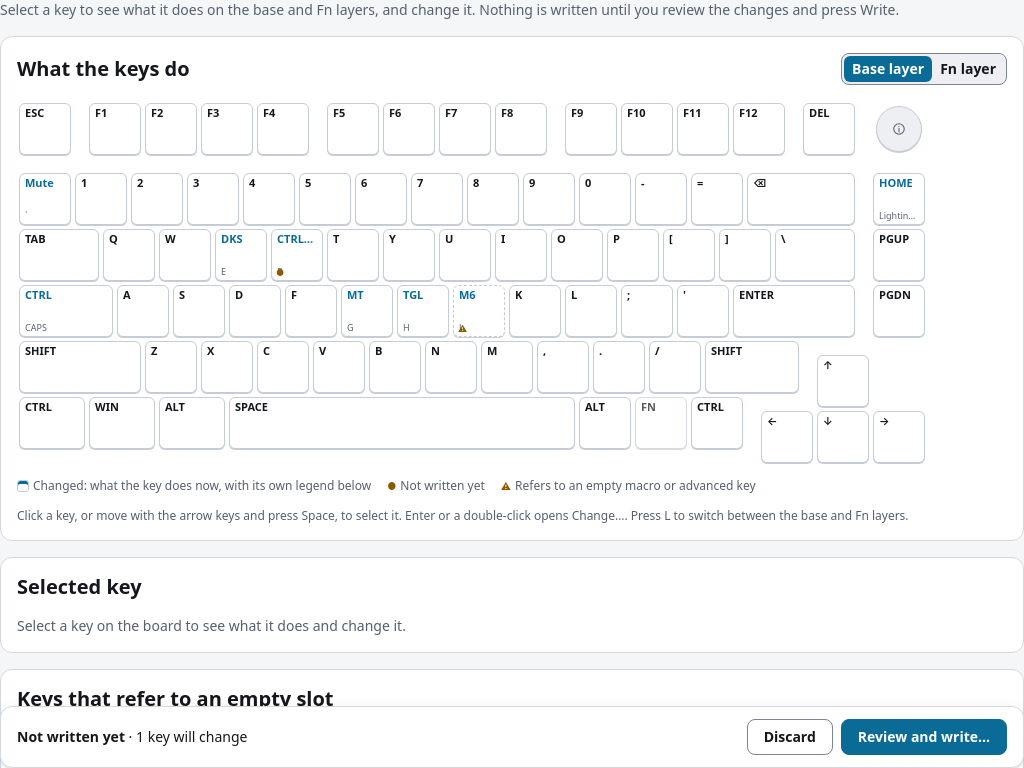
Test case: draft → review → write › writes nothing when the review is cancelled, and keeps the draft
Step 1. Click the button "Review and write…" → (924, 737), box left=841, top=719, right=1007, bottom=755
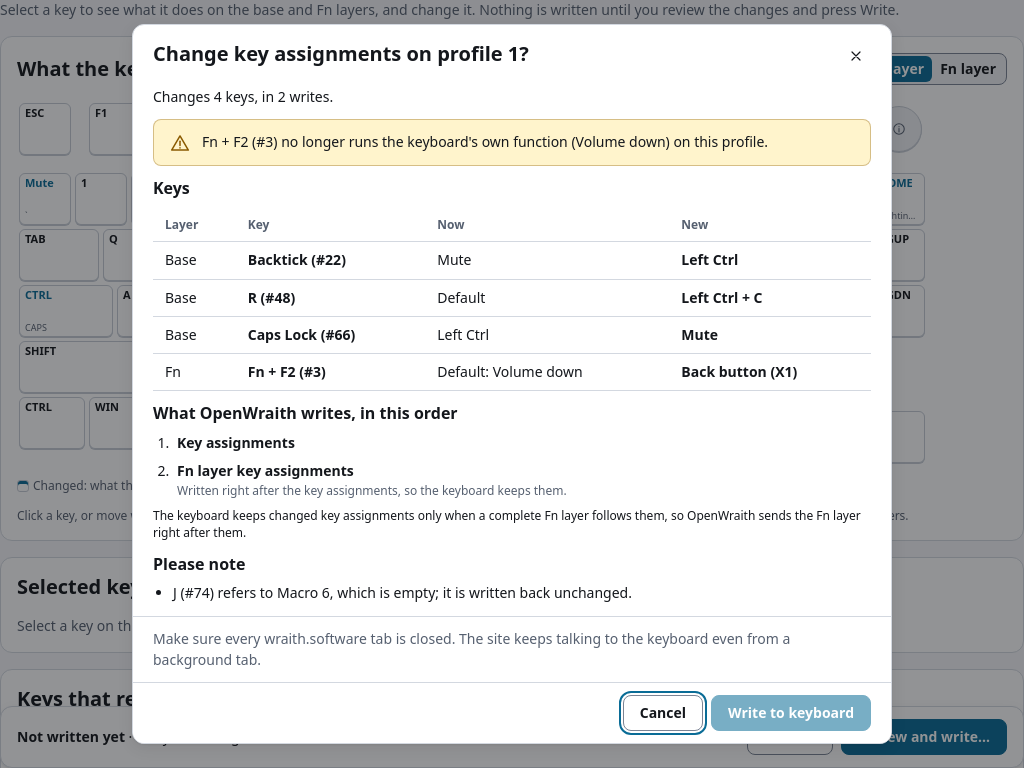
Expected: the heading "Change key assignments on profile 1?" is shown, left=153, top=41, right=529, bottom=67
Step 2. Click the button "Cancel" → (663, 713), box left=623, top=695, right=703, bottom=731
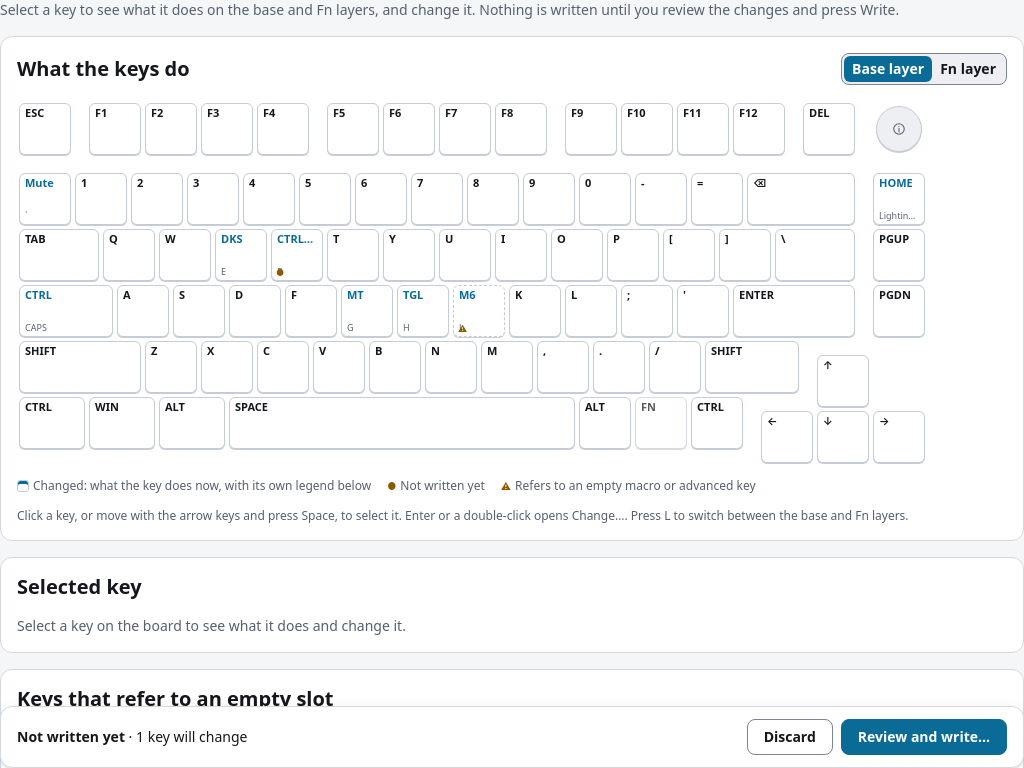
Expected: the heading "Change key assignments on profile 1?" is gone
